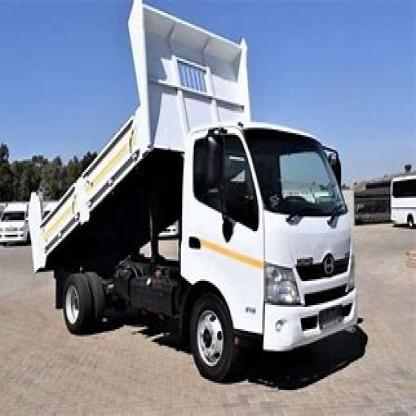dump_truck: (17, 0, 364, 381)
